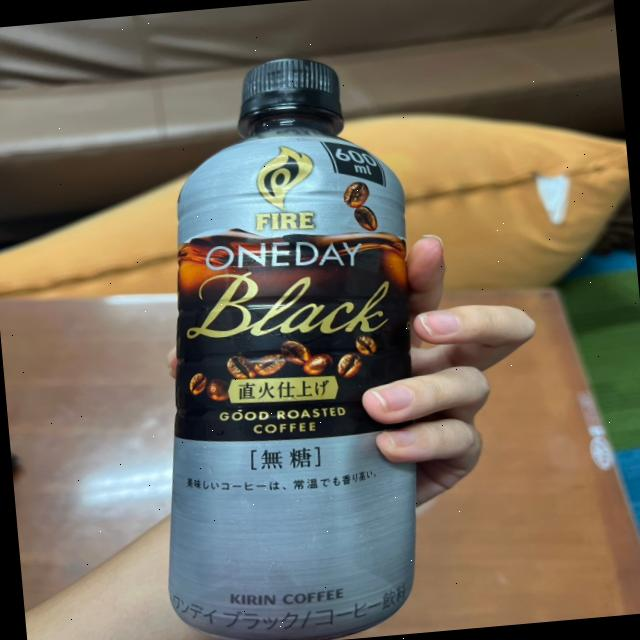coffee-black: (129, 41, 435, 640)
